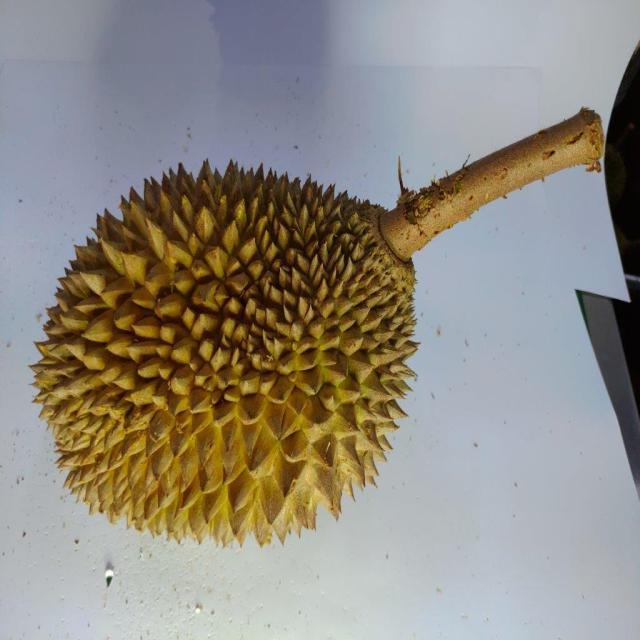mature: (27, 159, 427, 556)
